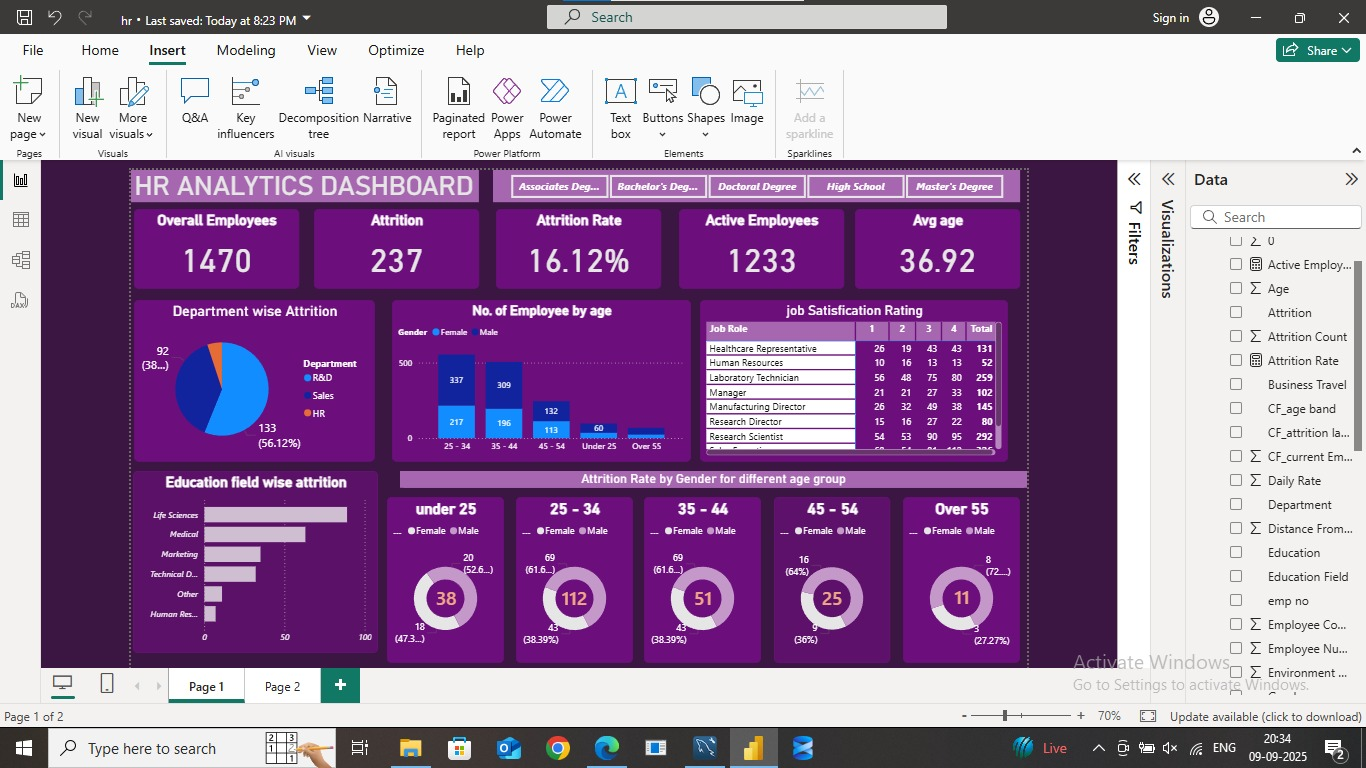

The page's visual inventory and layout, read from the dashboard file:
{"tool":"powerbi","page":{"name":"Page 1","canvas":[1280,720],"ordinal":0},"visuals":[{"type":"card","title":"Overall Employees","fields":{"Values":["Sum(HR data.Employee Count)"]},"box":[4.3,55.7,235.7,114.3],"z":0},{"type":"card","title":"Attrition","fields":{"Values":["Sum(HR data.Attrition Count)"]},"box":[261.4,55.7,235.7,114.3],"z":1000},{"type":"card","title":"Attrition Rate","fields":{"Values":["HR data.Attrition Rate"]},"box":[521.4,55.7,235.7,114.3],"z":2000},{"type":"card","title":"Active Employees","fields":{"Values":["HR data.Active Employees"]},"box":[782.9,55.7,235.7,114.3],"z":3000},{"type":"card","title":"Avg age","fields":{"Values":["Avg(HR data.Age)"]},"box":[1034.3,55.7,235.7,114.3],"z":4000},{"type":"pieChart","title":"Department wise Attrition","fields":{"Category":["HR data.Department"],"Y":["Sum(HR data.Attrition Count)"]},"box":[4.3,185.7,344.3,231.4],"z":5000},{"type":"columnChart","title":"No. of Employee by age ","fields":{"Category":["HR data.CF_age band"],"Y":["Sum(HR data.Employee Count)"],"Series":["HR data.Gender"]},"box":[372.9,185.7,427.1,231.4],"z":6000},{"type":"pivotTable","title":"job Satisfication Rating","fields":{"Rows":["HR data.Job Role"],"Values":["Sum(HR data.Employee Count)"],"Columns":["HR data.Job Satisfaction"]},"box":[812.9,185.7,440,231.4],"z":7000},{"type":"barChart","title":"Education field wise attrition","fields":{"Category":["HR data.Education Field"],"Y":["Sum(HR data.Attrition Count)"]},"box":[2.9,430,350,260],"z":8000},{"type":"donutChart","title":"under 25","fields":{"Category":["HR data.Gender"],"Y":["Sum(HR data.Attrition Count)"],"Series":["HR data.CF_age band"]},"box":[365.7,467.1,167.1,237.1],"z":9000},{"type":"textbox","title":"Attrition Rate by Gender for different age group","box":[384.3,430,895.7,24.3],"z":10000},{"type":"donutChart","title":"25 - 34","fields":{"Category":["HR data.Gender"],"Y":["Sum(HR data.Attrition Count)"],"Series":["HR data.CF_age band"]},"box":[550,467.1,167.1,237.1],"z":11000},{"type":"donutChart","title":"Over 55","fields":{"Category":["HR data.Gender"],"Y":["Sum(HR data.Attrition Count)"],"Series":["HR data.CF_age band"]},"box":[1102.9,467.1,167.1,237.1],"z":12000},{"type":"donutChart","title":"45 - 54","fields":{"Category":["HR data.Gender"],"Y":["Sum(HR data.Attrition Count)"],"Series":["HR data.CF_age band"]},"box":[918.6,467.1,165.7,237.1],"z":13000},{"type":"donutChart","title":"35 - 44","fields":{"Category":["HR data.Gender"],"Y":["Sum(HR data.Attrition Count)"],"Series":["HR data.CF_age band"]},"box":[732.9,467.1,167.1,237.1],"z":14000},{"type":"card","fields":{"Values":["Sum(HR data.Attrition Count)"]},"box":[430,597.1,40,30],"z":15000},{"type":"card","fields":{"Values":["Sum(HR data.Attrition Count)"]},"box":[797.1,597.1,40,30],"z":16000},{"type":"card","fields":{"Values":["Sum(HR data.Attrition Count)"]},"box":[981.4,597.1,40,30],"z":17000},{"type":"card","fields":{"Values":["Sum(HR data.Attrition Count)"]},"box":[1167.1,592.9,40,34.3],"z":18000},{"type":"card","fields":{"Values":["Sum(HR data.Attrition Count)"]},"box":[608.6,592.9,50,38.6],"z":19000},{"type":"textbox","title":"HR ANALYTICS DASHBOARD","box":[0,0,497.1,45.7],"z":20000},{"type":"slicer","fields":{"Values":["HR data.Education"]},"box":[517.1,0,752.9,45.7],"z":21000}]}

Visuals, with their boxes on the page's 1280x720 design canvas (x1, y1, x2, y2). These are canvas units, not pixel positions in the 1366x768 screenshot, which may show the page scaled, cropped or inside an application window:
"Overall Employees" card: (4, 56, 240, 170)
"Attrition" card: (261, 56, 497, 170)
"Attrition Rate" card: (521, 56, 757, 170)
"Active Employees" card: (783, 56, 1019, 170)
"Avg age" card: (1034, 56, 1270, 170)
"Department wise Attrition" pieChart: (4, 186, 349, 417)
"No. of Employee by age " columnChart: (373, 186, 800, 417)
"job Satisfication Rating" pivotTable: (813, 186, 1253, 417)
"Education field wise attrition" barChart: (3, 430, 353, 690)
"under 25" donutChart: (366, 467, 533, 704)
"Attrition Rate by Gender for different age group" textbox: (384, 430, 1280, 454)
"25 - 34" donutChart: (550, 467, 717, 704)
"Over 55" donutChart: (1103, 467, 1270, 704)
"45 - 54" donutChart: (919, 467, 1084, 704)
"35 - 44" donutChart: (733, 467, 900, 704)
card - Sum(HR data.Attrition Count): (430, 597, 470, 627)
card - Sum(HR data.Attrition Count): (797, 597, 837, 627)
card - Sum(HR data.Attrition Count): (981, 597, 1021, 627)
card - Sum(HR data.Attrition Count): (1167, 593, 1207, 627)
card - Sum(HR data.Attrition Count): (609, 593, 659, 632)
"HR ANALYTICS DASHBOARD" textbox: (0, 0, 497, 46)
slicer - HR data.Education: (517, 0, 1270, 46)
